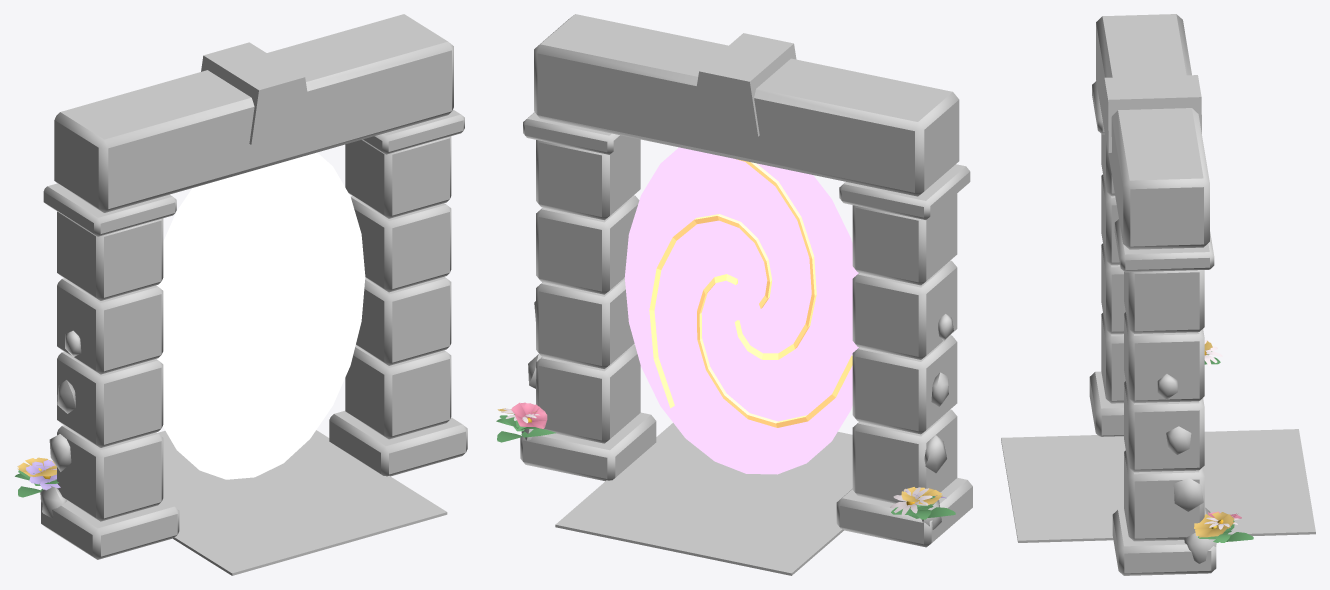
Rendered from zon_diaryring_discord.glb.
3 views of the same model, side by side, from view 1: azimuth 30°, elevation 25°; view 2: azimuth 150°, elevation 25°; view 3: azimuth 270°, elevation 25° (orthographic). The views are drawn at different scales.
Parts seen in each view (by area): view 1: SM_zon_diaryring_discord_kit_diaryring_discord_x0_z0, ANIM_bld_discord_swirl__0, SM_zon_diaryring_discord_vc_palette_x0_z0; view 2: SM_zon_diaryring_discord_kit_diaryring_discord_x0_z0, ANIM_bld_discord_swirl__0, SM_zon_diaryring_discord_vc_palette_x0_z0; view 3: SM_zon_diaryring_discord_kit_diaryring_discord_x0_z0, SM_zon_diaryring_discord_vc_palette_x0_z0.
Boxes of the visible parts, x1,y1,x2,y2 form: SM_zon_diaryring_discord_kit_diaryring_discord_x0_z0: (40, 14, 467, 575); ANIM_bld_discord_swirl__0: (156, 152, 365, 479); SM_zon_diaryring_discord_vc_palette_x0_z0: (15, 457, 60, 497); SM_zon_diaryring_discord_kit_diaryring_discord_x0_z0: (520, 14, 972, 575); ANIM_bld_discord_swirl__0: (624, 147, 858, 474); SM_zon_diaryring_discord_vc_palette_x0_z0: (496, 402, 955, 519); SM_zon_diaryring_discord_kit_diaryring_discord_x0_z0: (1001, 14, 1315, 575); SM_zon_diaryring_discord_vc_palette_x0_z0: (1194, 340, 1253, 542).
Size of the model in its own units: 4.31 by 4.05 by 2.89.
